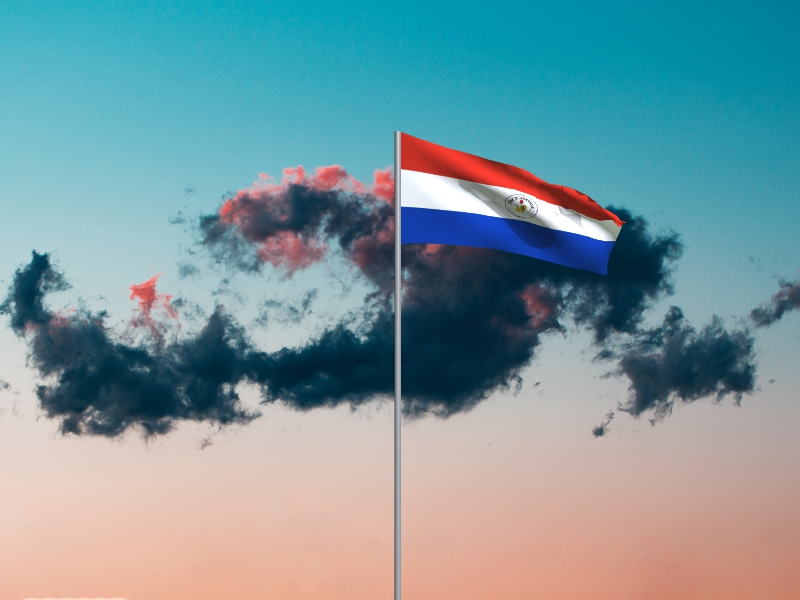py: (402, 133, 626, 277)
